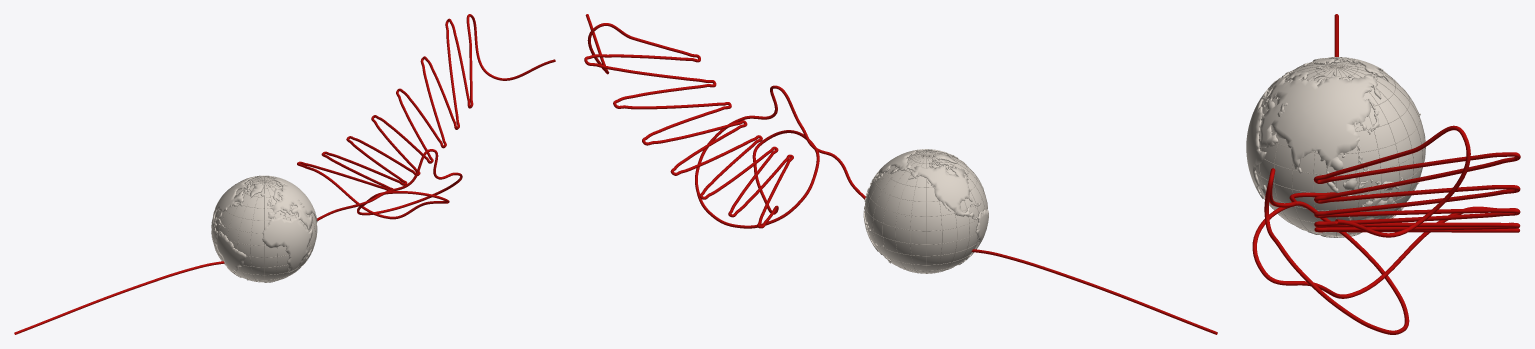
Rendered from red-thread-kit.glb.
3 renders of one model, left to right at view 1: azimuth 30°, elevation 25°; view 2: azimuth 150°, elevation 25°; view 3: azimuth 270°, elevation 25°, orthographic. The views are drawn at different scales.
Visible parts, largest first — view 1: Globe, Thread, Graticule; view 2: Globe, Thread, Graticule; view 3: Globe, Thread, Graticule.
Boxes of the visible parts, x1,y1,x2,y2 form: Globe: (211, 175, 317, 282); Thread: (14, 14, 555, 334); Graticule: (211, 177, 317, 282); Globe: (863, 149, 988, 273); Thread: (584, 14, 1217, 334); Graticule: (864, 150, 987, 273); Globe: (1246, 57, 1425, 237); Thread: (1252, 14, 1520, 334); Graticule: (1256, 59, 1425, 236).
Size of the model in its own units: 26.05 by 8.21 by 6.81.
